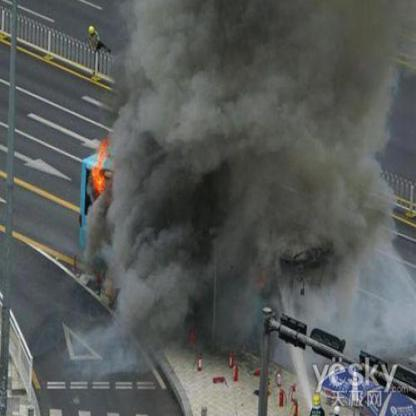smoke: (106, 1, 390, 326)
